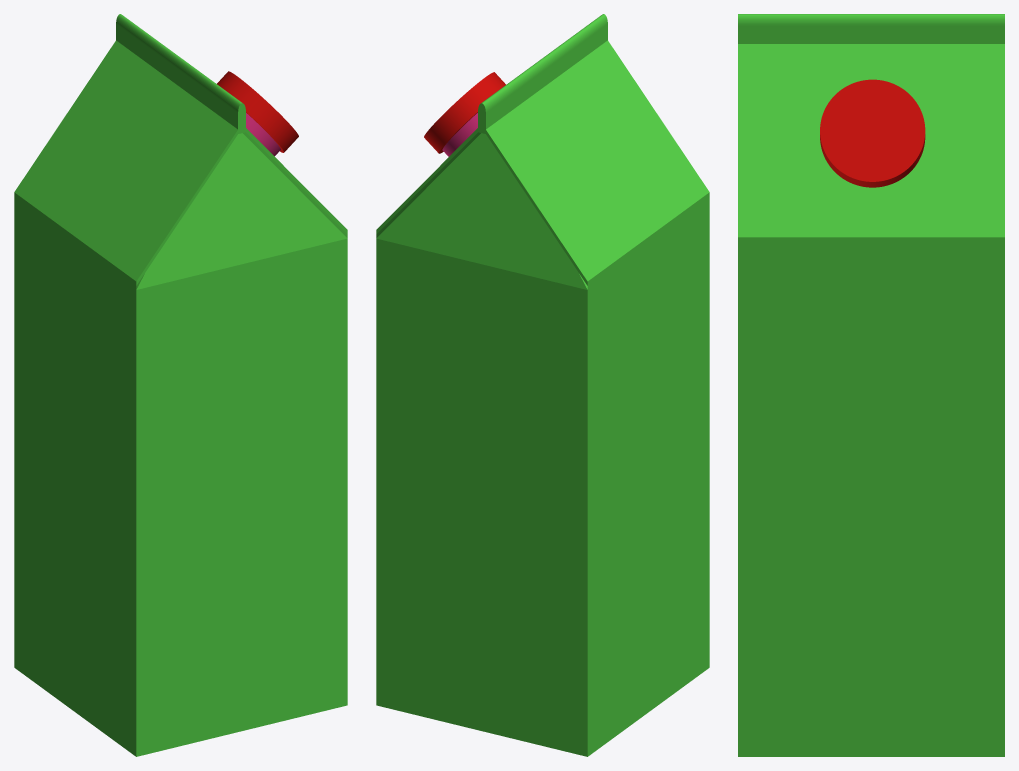
Rendered from banana juce textured.fbx.
3 views of the same model, side by side, from view 1: azimuth 30°, elevation 25°; view 2: azimuth 150°, elevation 25°; view 3: azimuth 270°, elevation 25° (orthographic). The views are drawn at different scales.
Visible parts, largest first — view 1: Cube.012, Cylinder.008; view 2: Cube.012, Cylinder.008; view 3: Cube.012, Cylinder.008.
Boxes of the visible parts, left/top/right/bottom form: Cube.012: left=14, top=14, right=347, bottom=756; Cylinder.008: left=217, top=71, right=298, bottom=152; Cube.012: left=376, top=14, right=709, bottom=756; Cylinder.008: left=424, top=72, right=505, bottom=153; Cube.012: left=738, top=14, right=1004, bottom=756; Cylinder.008: left=820, top=79, right=925, bottom=187.
Bounding box in the file's own units: 460 × 1284 × 453.
